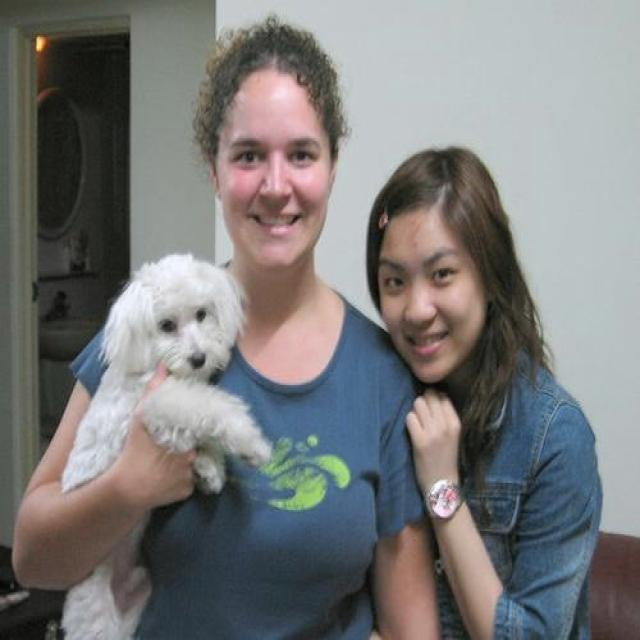maltese_dog: (58, 258, 278, 628)
